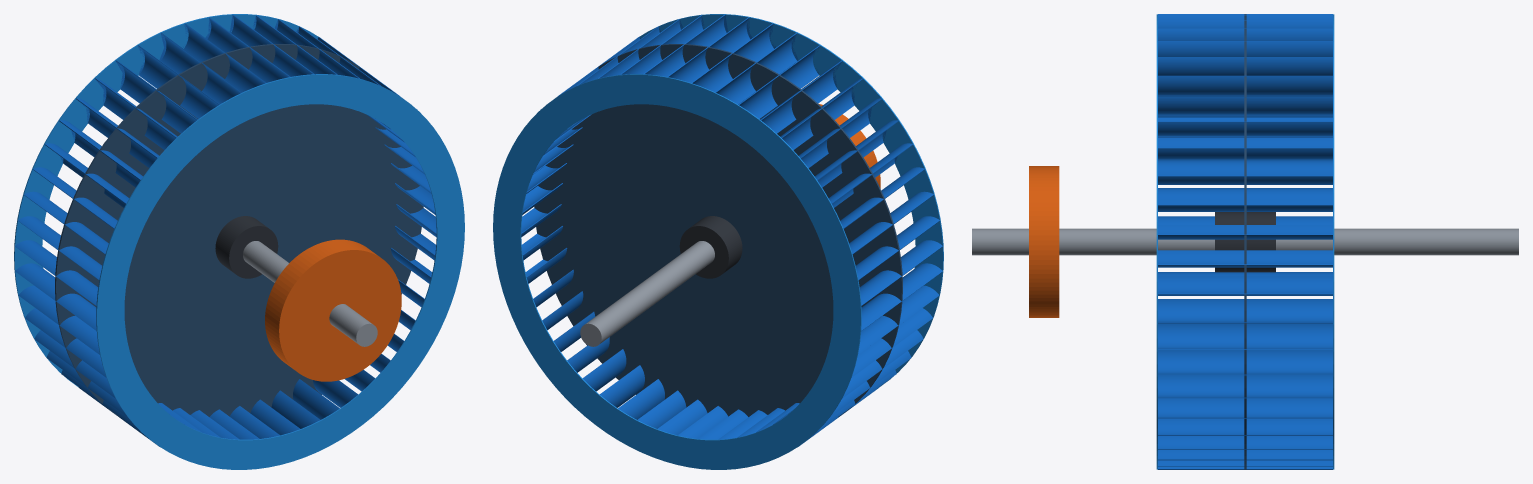
The model's file is rodete_sirocco_v1_2.obj.
3 renders of one model, left to right at view 1: azimuth 30°, elevation 25°; view 2: azimuth 150°, elevation 25°; view 3: azimuth 270°, elevation 25°, orthographic. The views are drawn at different scales.
Parts seen in each view (by area): view 1: disco_central, anillo_entrada_2, polea, anillo_entrada_1, eje, cubo, alabe_15, alabe_16, alabe_26, alabe_14, alabe_17, alabe_27 (+25 smaller); view 2: disco_central, anillo_entrada_1, anillo_entrada_2, eje, cubo, alabe_15, alabe_16, alabe_26, alabe_14, alabe_17, alabe_27, alabe_13 (+28 smaller); view 3: eje, polea, alabe_01, alabe_48, alabe_47, alabe_02, alabe_11, alabe_46, alabe_03, alabe_12, alabe_04, alabe_10 (+24 smaller).
Part boxes in pixels (<box>): disco_central: <box>55,44,423,417</box>; anillo_entrada_2: <box>96,74,464,469</box>; polea: <box>265,239,401,381</box>; anillo_entrada_1: <box>14,14,318,386</box>; eje: <box>103,141,377,346</box>; cubo: <box>215,216,278,278</box>; alabe_15: <box>159,32,242,104</box>; alabe_16: <box>137,45,219,118</box>; alabe_26: <box>15,263,96,330</box>; alabe_14: <box>183,23,266,91</box>; alabe_17: <box>115,60,197,133</box>; alabe_27: <box>18,285,99,354</box>; disco_central: <box>534,44,902,417</box>; anillo_entrada_1: <box>493,74,861,469</box>; anillo_entrada_2: <box>639,14,943,386</box>; eje: <box>580,241,714,346</box>; cubo: <box>679,216,742,278</box>; alabe_15: <box>715,32,798,104</box>; alabe_16: <box>738,45,820,118</box>; alabe_26: <box>861,263,942,330</box>; alabe_14: <box>691,23,775,91</box>; alabe_17: <box>760,60,842,133</box>; alabe_27: <box>858,285,939,354</box>; alabe_13: <box>667,17,752,82</box>; eje: <box>972,228,1518,255</box>; polea: <box>1029,166,1059,317</box>; alabe_01: <box>1158,323,1332,349</box>; alabe_48: <box>1158,350,1332,375</box>; alabe_47: <box>1158,375,1332,398</box>; alabe_02: <box>1158,300,1332,323</box>; alabe_11: <box>1158,75,1332,95</box>; alabe_46: <box>1158,398,1332,418</box>; alabe_03: <box>1158,275,1332,295</box>; alabe_12: <box>1158,57,1332,75</box>; alabe_04: <box>1158,250,1332,267</box>; alabe_10: <box>1158,97,1332,114</box>.
Bounding box in the file's own units: 600 × 600 × 720.
